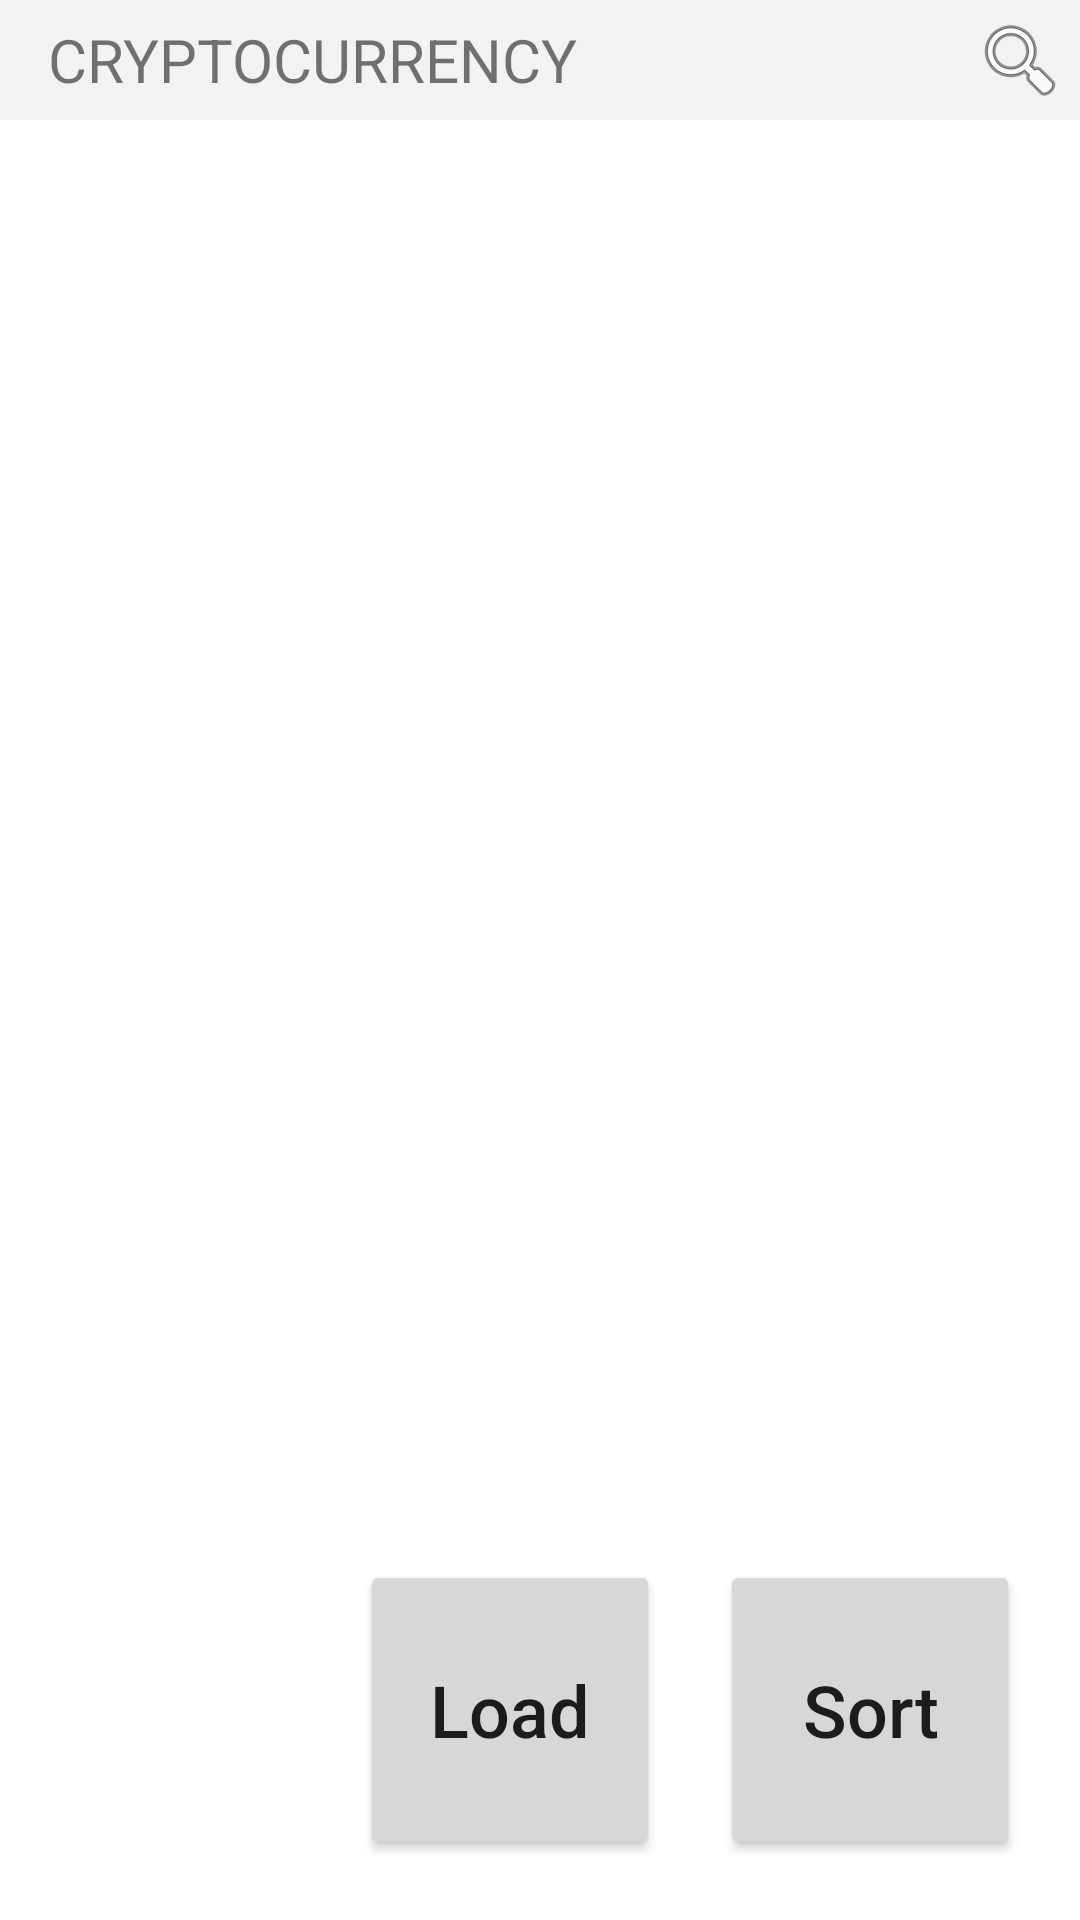

Screen size 1080w x 1920h. Icon name, then its center in pixels as point (x, y):
search: point (1020, 60)
